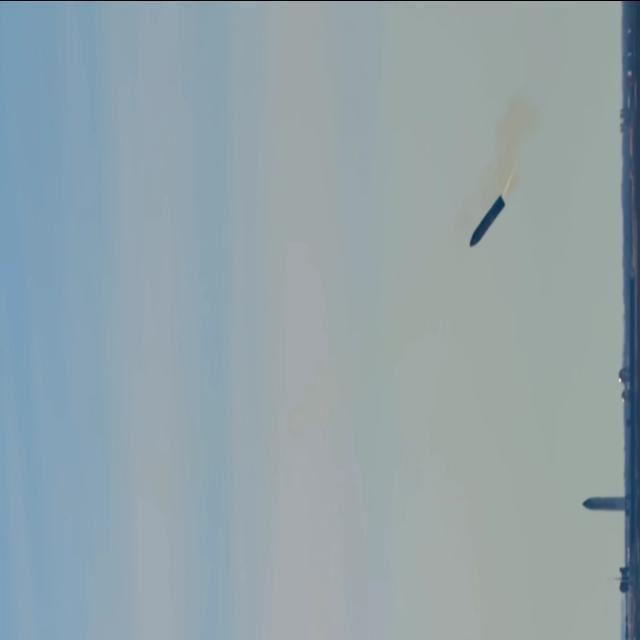missile: (468, 194, 506, 248)
